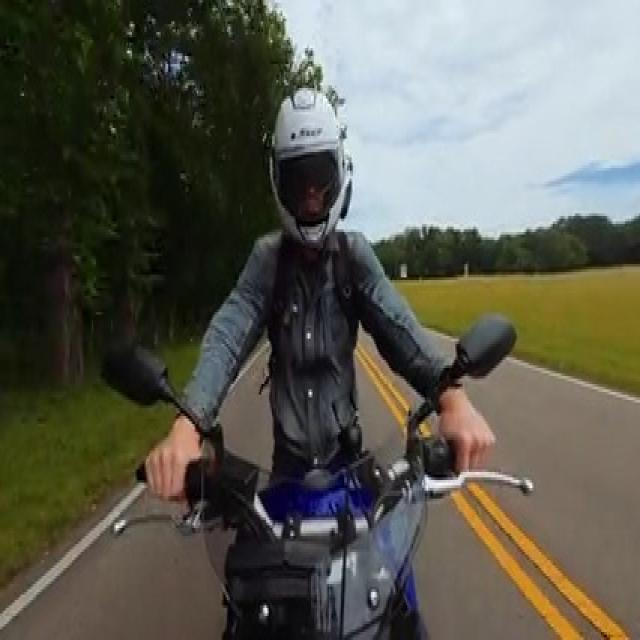Helmet_Wearer: (255, 72, 357, 244)
Person: (151, 74, 489, 504)
